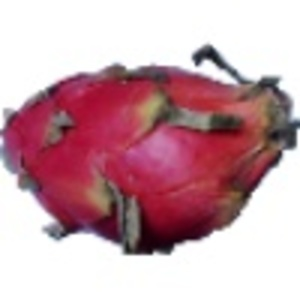pitaia: (1, 46, 300, 256)
